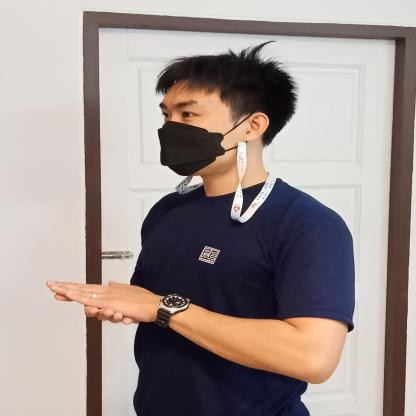Love: (28, 253, 208, 332)
